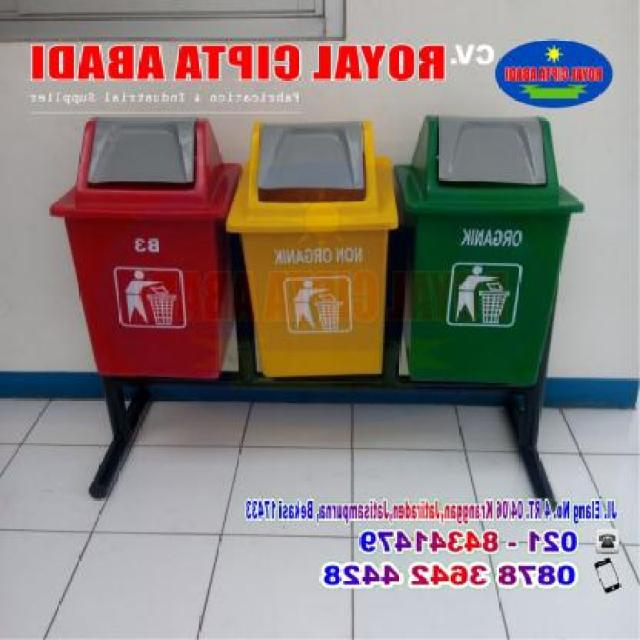garbage container: (43, 113, 243, 390), (398, 111, 592, 392), (222, 111, 400, 384)
